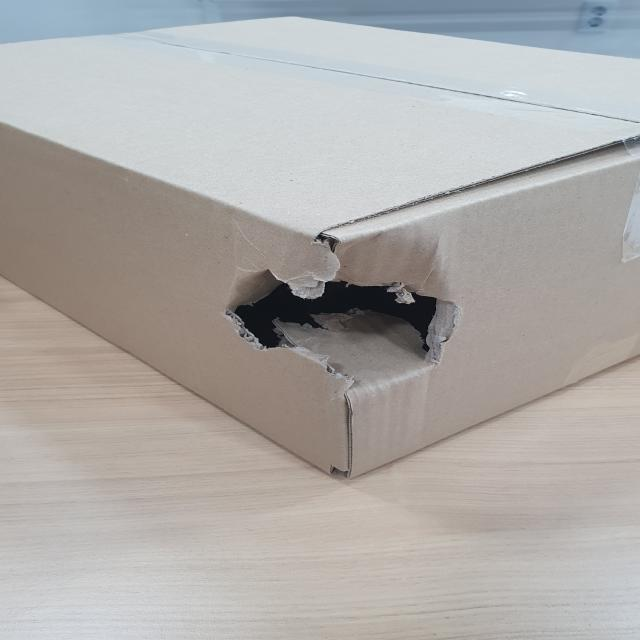hole: (231, 253, 466, 397)
